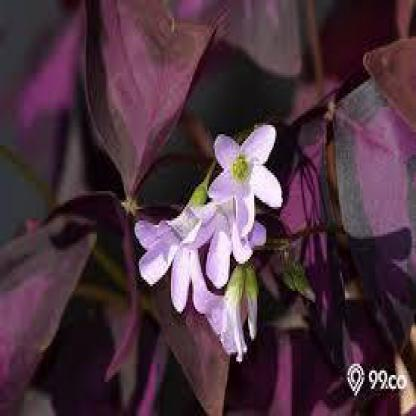Kupu-Kupu: (308, 6, 411, 269)
